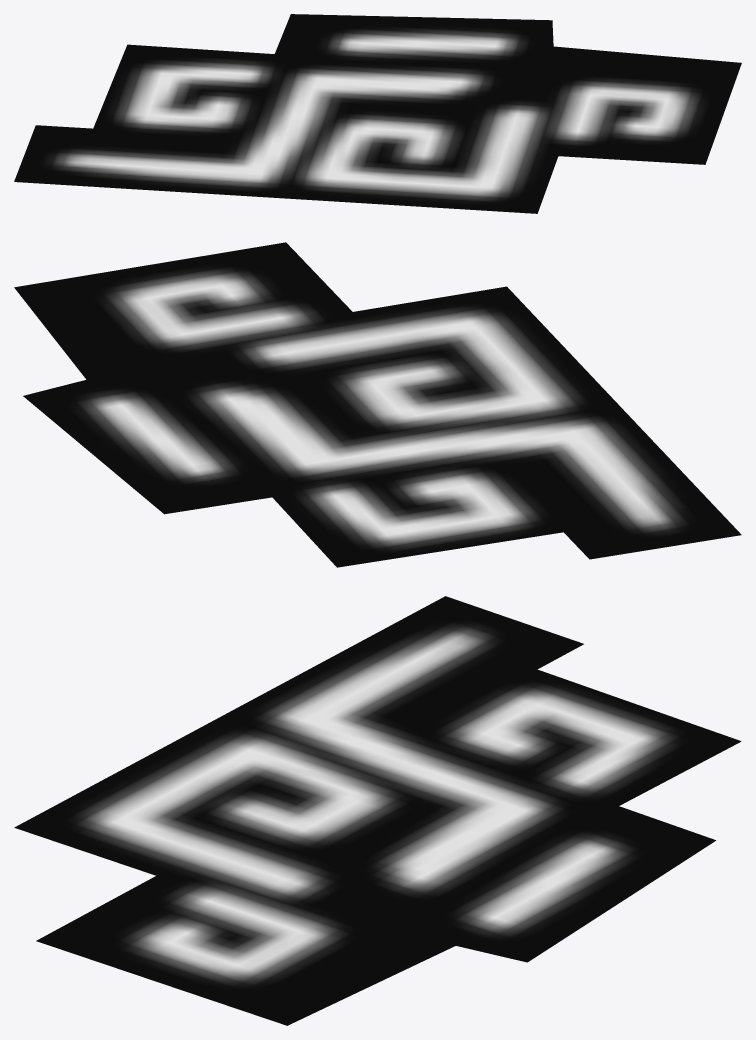
3 renders of one model, top to bottom at view 1: azimuth 30°, elevation 25°; view 2: azimuth 150°, elevation 25°; view 3: azimuth 270°, elevation 25°, orthographic. The views are drawn at different scales.
Parts seen in each view (by area): view 1: Br_n; view 2: Br_n; view 3: Br_n.
Part boxes in pixels (x1,y1,x2,y2): Br_n: [14, 14, 741, 213]; Br_n: [14, 242, 741, 567]; Br_n: [14, 596, 741, 1025].
Bounding box in the file's own units: 424 × 1.19e-07 × 303.
1 material, 1 textured.
